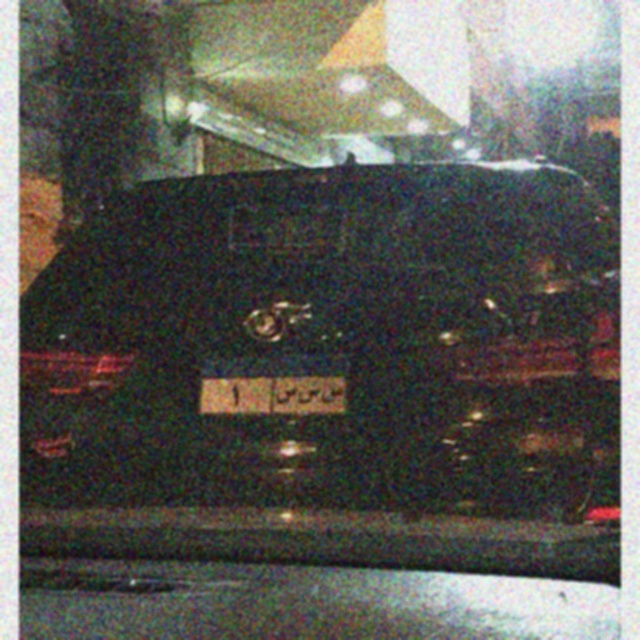License Plate: (195, 352, 351, 418)
